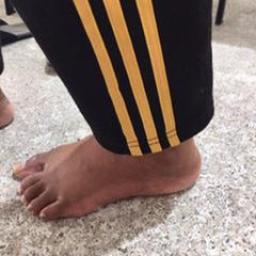Lateral View -Left Foot-: (7, 127, 220, 225)
